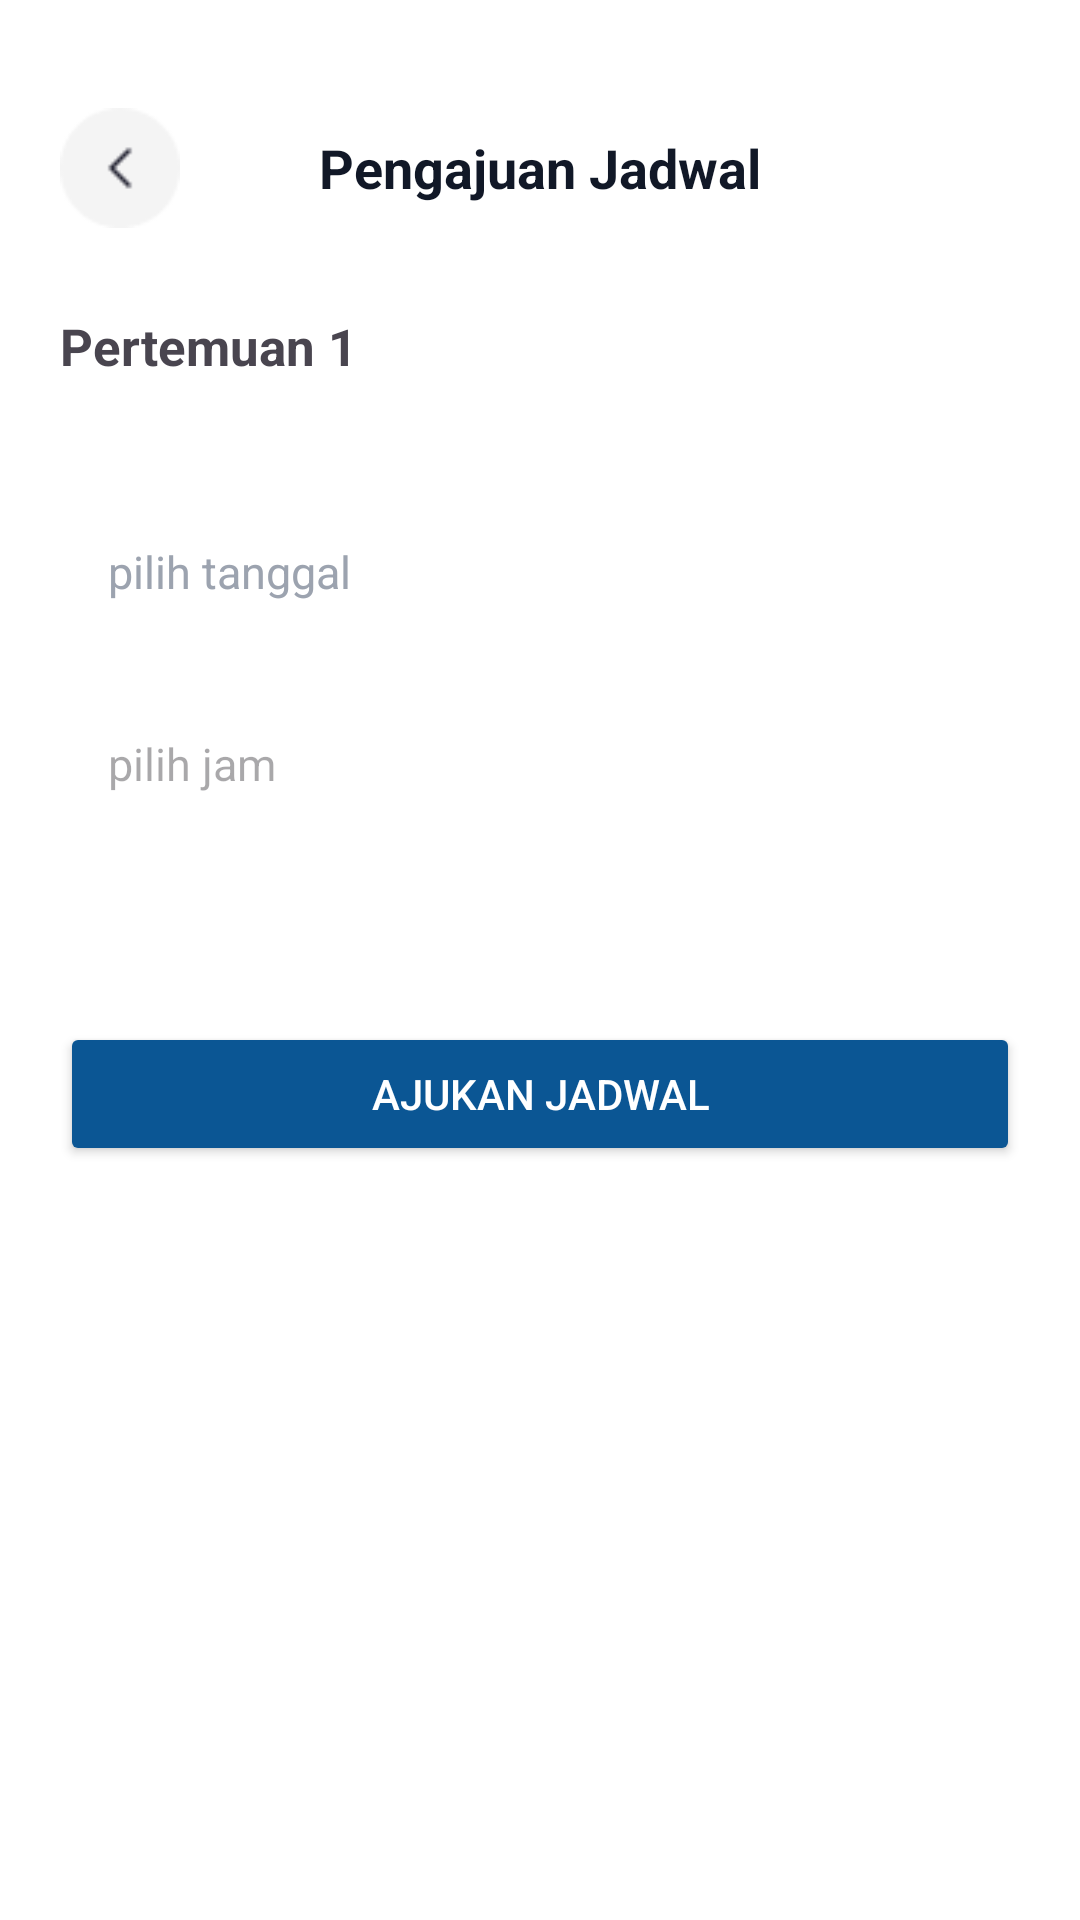

Icons on this 1080px×1920px Android screen, each with its box as {"x1": x1, "y1": y1, "x2": x2, "y2": y2}:
back: {"x1": 60, "y1": 108, "x2": 180, "y2": 228}
